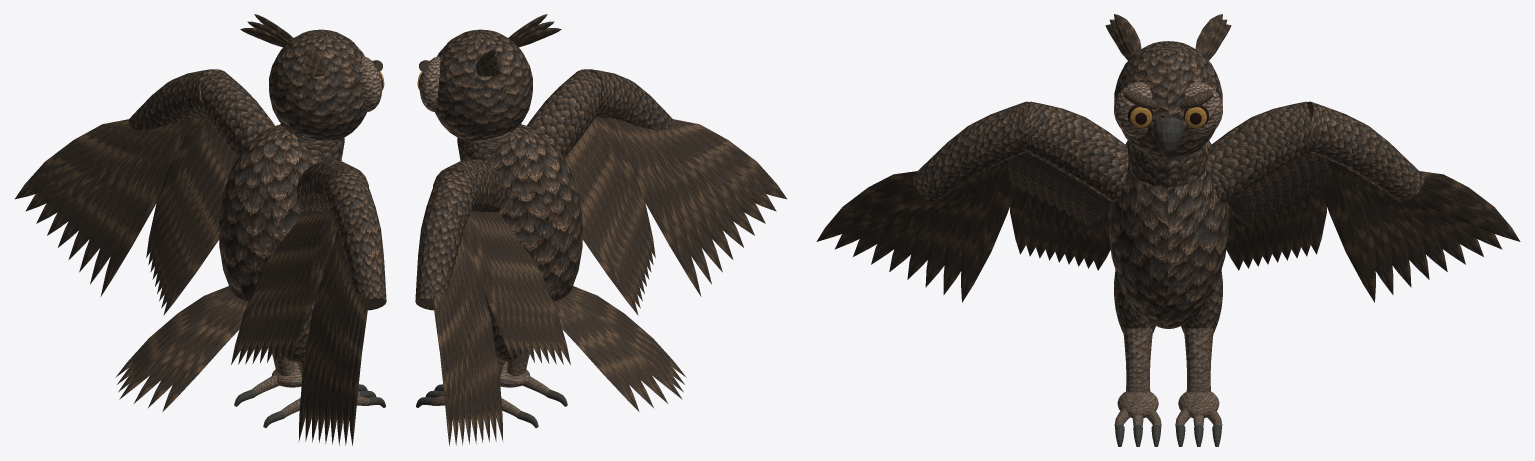
The model's file is cachiru.obj.
3 views of the same model, side by side, from view 1: azimuth 30°, elevation 25°; view 2: azimuth 150°, elevation 25°; view 3: azimuth 270°, elevation 25° (orthographic). The views are drawn at different scales.
Parts seen in each view (by area): view 1: trunk_coat, cranium_coat, left_wing_fore_coat, right_wing_upper_coat, right_wing_fore_coat, right_primary_0_flight, tail_3_flight, right_secondary_8_flight, left_secondary_8_flight, right_primary_1_flight, right_primary_2_flight, right_primary_3_flight (+41 smaller); view 2: trunk_coat, cranium_coat, right_wing_fore_coat, left_wing_upper_coat, left_wing_fore_coat, left_primary_0_flight, tail_3_flight, left_secondary_8_flight, right_secondary_8_flight, left_primary_1_flight, left_primary_2_flight, left_primary_3_flight (+41 smaller); view 3: trunk_coat, left_wing_upper_coat, right_wing_upper_coat, cranium_coat, right_wing_fore_coat, left_wing_fore_coat, right_primary_0_flight, left_primary_0_flight, right_primary_8_flight, left_primary_8_flight, neck_coat, left_tarsus_leg (+28 smaller).
Boxes of the visible parts, box(x1,y1,x2,y2) form: trunk_coat: box(219, 124, 318, 301); cranium_coat: box(269, 29, 366, 140); left_wing_fore_coat: box(323, 170, 386, 310); right_wing_upper_coat: box(201, 69, 274, 157); right_wing_fore_coat: box(128, 69, 217, 130); right_primary_0_flight: box(100, 118, 197, 296); tail_3_flight: box(119, 295, 238, 399); right_secondary_8_flight: box(146, 116, 214, 257); left_secondary_8_flight: box(288, 211, 337, 361); right_primary_1_flight: box(90, 121, 177, 284); right_primary_2_flight: box(79, 125, 167, 272); right_primary_3_flight: box(68, 128, 156, 259); trunk_coat: box(483, 124, 582, 301); cranium_coat: box(435, 29, 532, 140); right_wing_fore_coat: box(415, 170, 478, 310); left_wing_upper_coat: box(527, 69, 600, 157); left_wing_fore_coat: box(584, 69, 673, 130); left_primary_0_flight: box(604, 118, 701, 296); tail_3_flight: box(564, 294, 682, 399); left_secondary_8_flight: box(587, 116, 655, 257); right_secondary_8_flight: box(464, 211, 513, 361); left_primary_1_flight: box(624, 121, 711, 284); left_primary_2_flight: box(634, 125, 722, 272); left_primary_3_flight: box(645, 128, 733, 259); trunk_coat: box(1108, 140, 1228, 328); left_wing_upper_coat: box(1018, 101, 1128, 202); right_wing_upper_coat: box(1208, 101, 1318, 202); cranium_coat: box(1114, 41, 1222, 159); right_wing_fore_coat: box(1307, 101, 1424, 202); left_wing_fore_coat: box(912, 101, 1029, 202); right_primary_0_flight: box(1319, 160, 1375, 302); left_primary_0_flight: box(961, 160, 1017, 302); right_primary_8_flight: box(1411, 171, 1520, 241); left_primary_8_flight: box(816, 171, 925, 241); neck_coat: box(1129, 145, 1207, 187); left_tarsus_leg: box(1123, 328, 1152, 392).
Size of the model in its own units: 71.09 by 100 by 163.
Materials: 4 (4 with a texture image).
